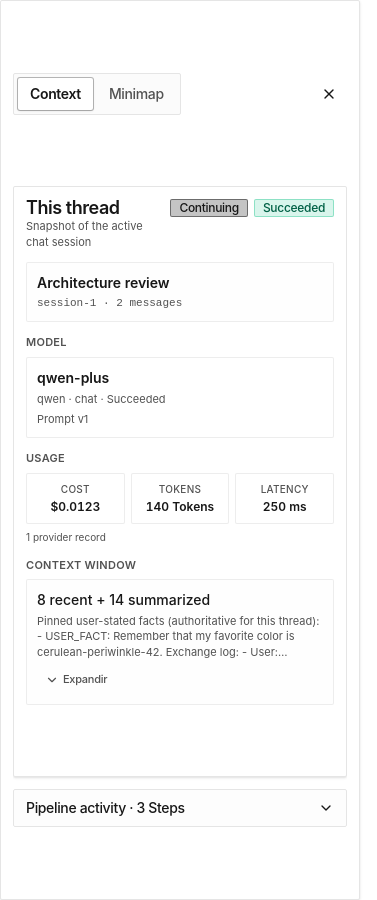
Test case: WorkspaceInspectorPanel › context window expands and collapses the condensed summary
Click the button "Expandir": (76, 680) [37,666,115,694]
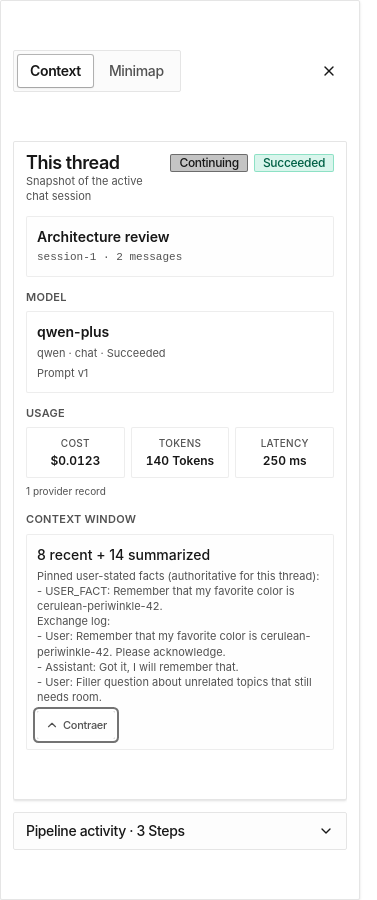
Expected: the text "Filler question about unrelated topics" is shown, [37,569,319,704]
Expected: the button "Contraer" is expanded
Click the button "Contraer": (76, 725) [37,711,115,739]
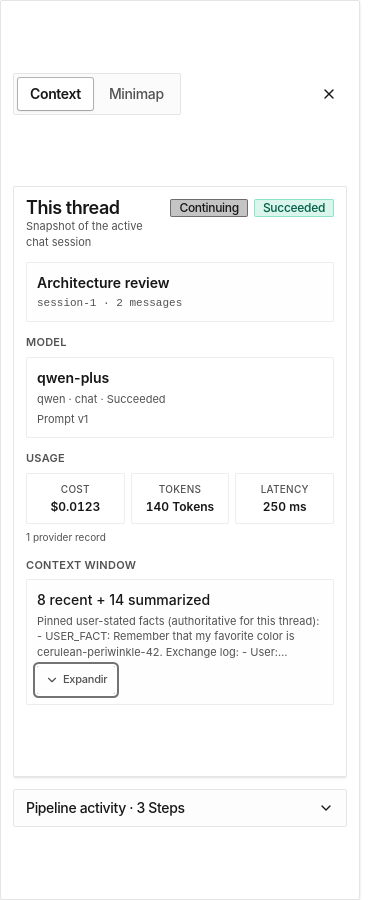
Expected: the button "Expandir" is shown, [37,666,115,694]
